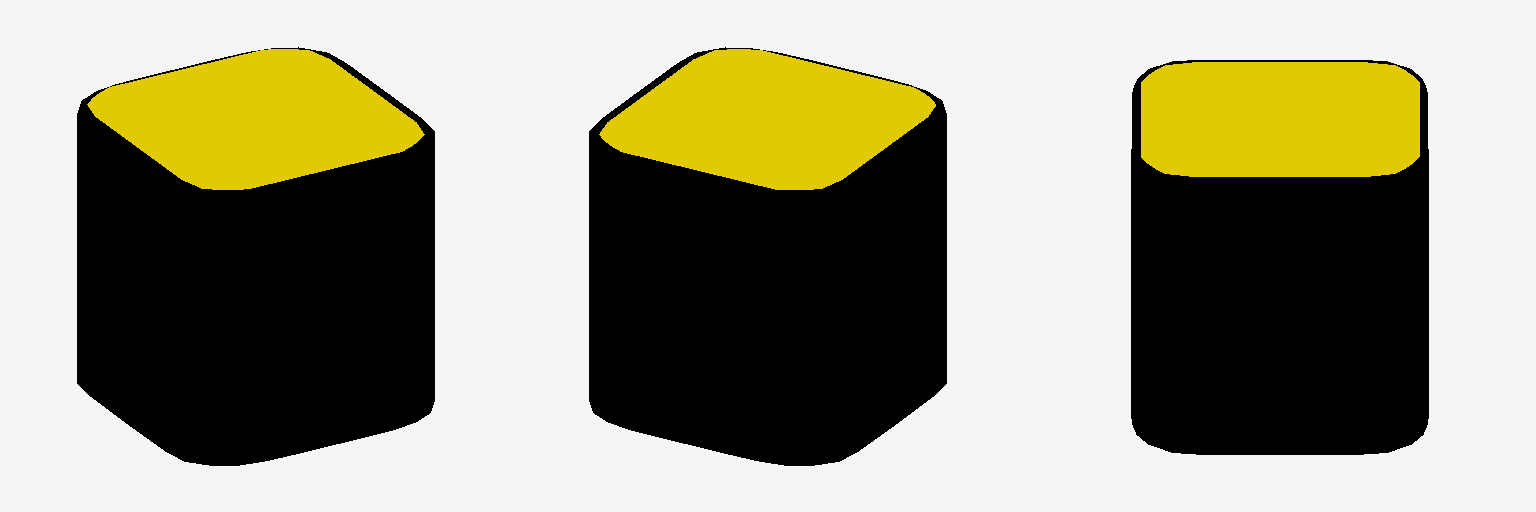
Rendered from centerY.obj.
3 views of the same model, side by side, from view 1: azimuth 30°, elevation 25°; view 2: azimuth 150°, elevation 25°; view 3: azimuth 270°, elevation 25° (orthographic).
Visible parts, largest first — view 1: BasicCenter_Plane.007, CenterSide_Plane.010; view 2: BasicCenter_Plane.007, CenterSide_Plane.010; view 3: BasicCenter_Plane.007, CenterSide_Plane.010.
Part boxes in pixels (x1,y1,x2,y2): BasicCenter_Plane.007: (77, 47, 434, 465); CenterSide_Plane.010: (87, 49, 424, 189); BasicCenter_Plane.007: (589, 47, 946, 465); CenterSide_Plane.010: (599, 49, 935, 189); BasicCenter_Plane.007: (1131, 60, 1428, 454); CenterSide_Plane.010: (1141, 62, 1419, 176).
Size of the model in its own units: 0.18 by 0.1815 by 0.18.